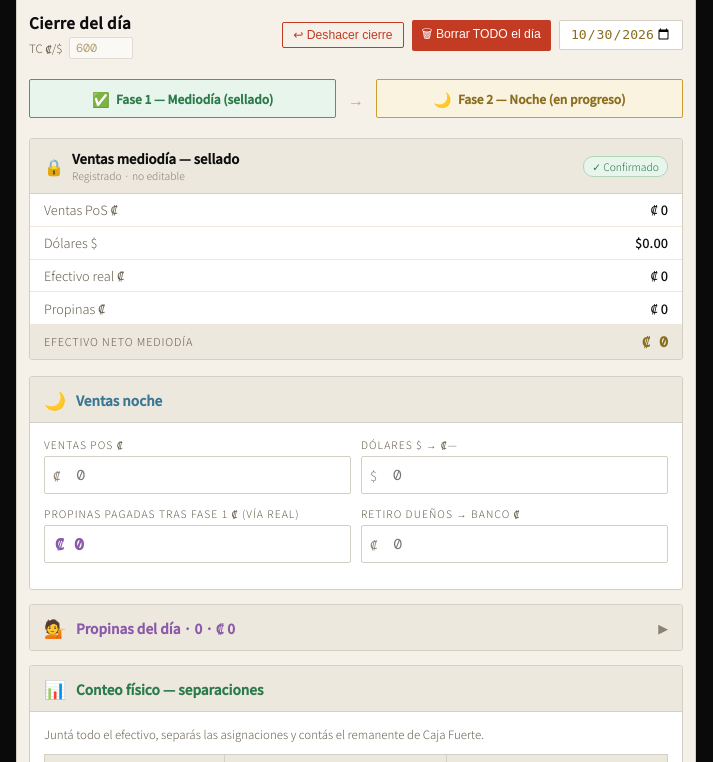
CashCierre · Fase 2 sigue bloqueada con la Caja Diaria abierta › sin turno abierto, el MISMO estado sí habilita el cierre → el turno es lo que bloquea
In the 1st number field with placeholder "0": (209, 475) [68,466,350,484], type "100000"
(page scrolled)
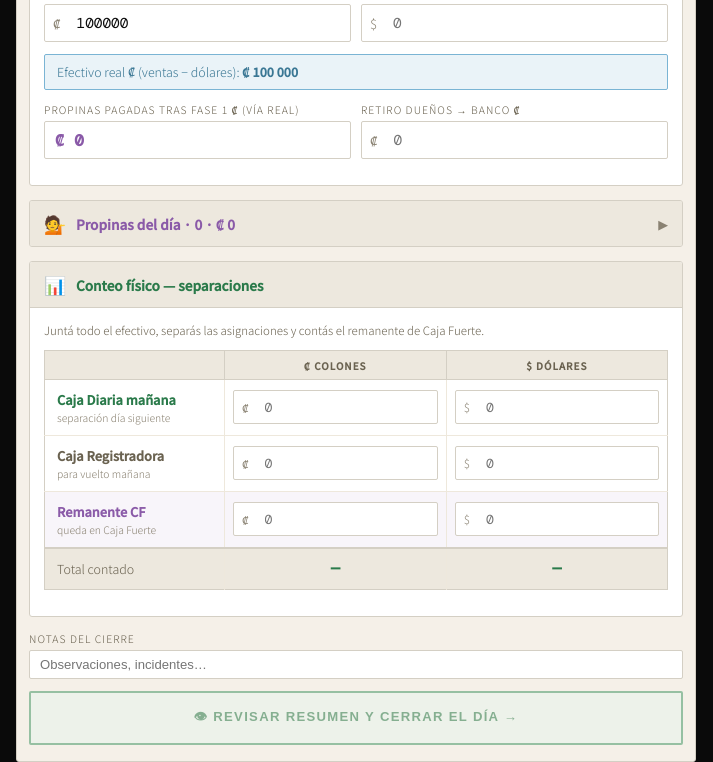
In the 7th number field with placeholder "0": (347, 519) [257,511,437,528], type "100000"
(page scrolled)
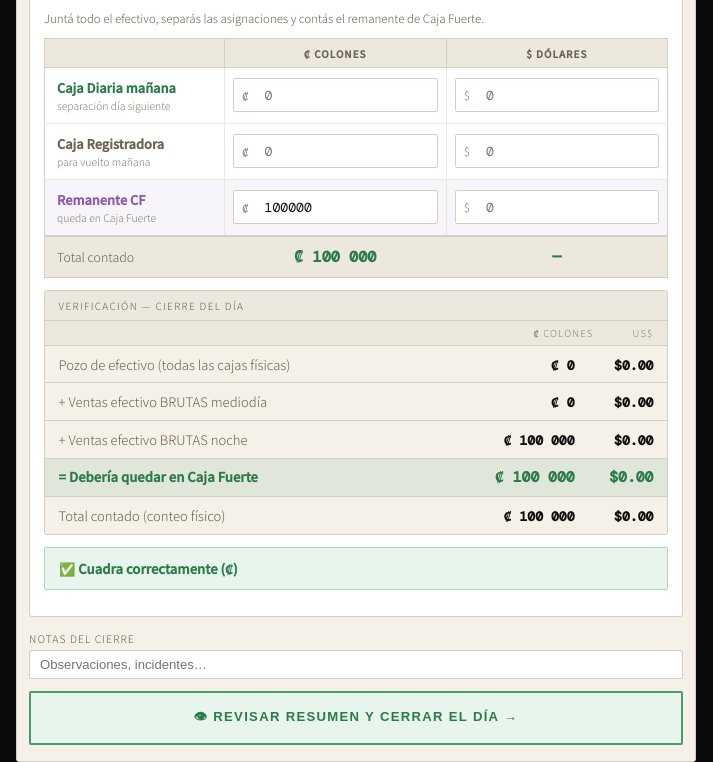
expect the button "👁 Revisar resumen y cerrar el día →" is enabled: met, box [29,691,683,745]
